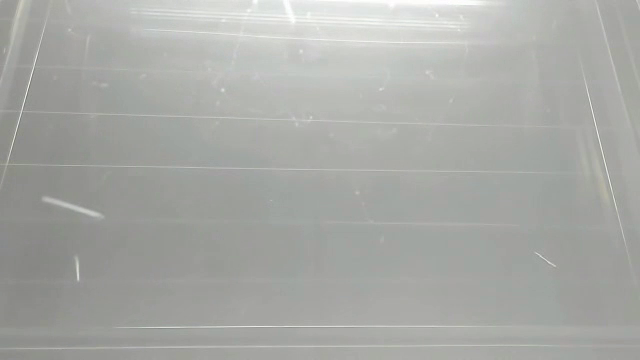alpha: (37, 192, 107, 223), (528, 245, 559, 272), (70, 250, 87, 285), (279, 1, 299, 27)
